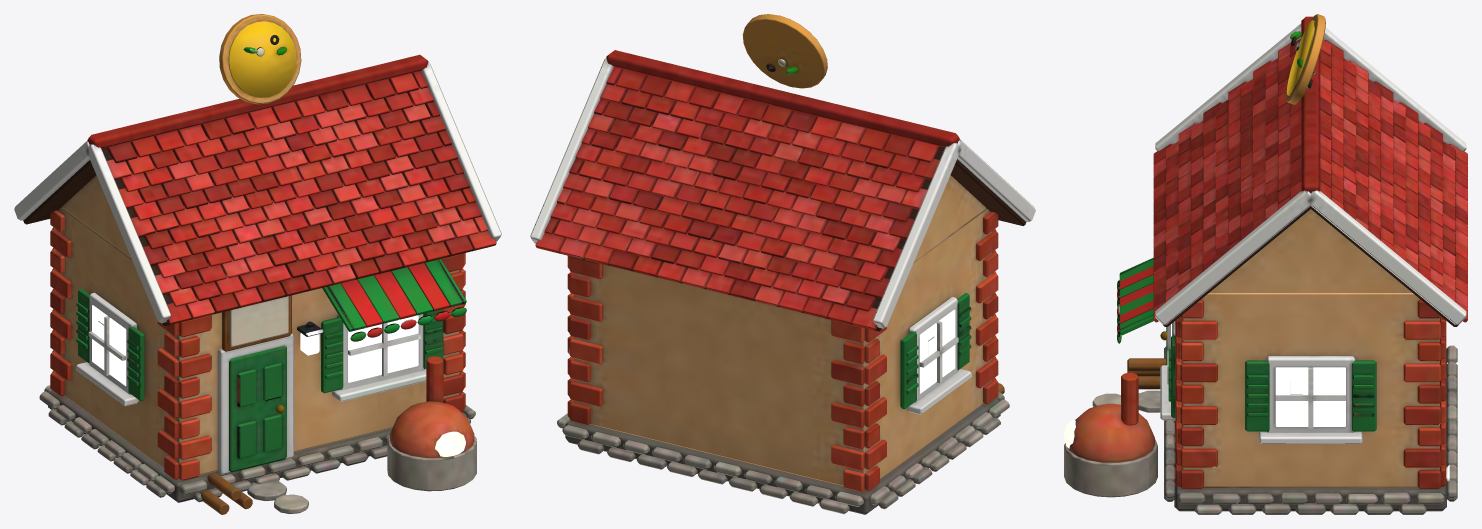
The model's file is pizzeria.glb.
The picture shows the model from 3 angles, left to right: view 1: azimuth 30°, elevation 25°; view 2: azimuth 150°, elevation 25°; view 3: azimuth 270°, elevation 25°; orthographic projection. The views are drawn at different scales.
Visible parts, largest first — view 1: pizzeria; view 2: pizzeria; view 3: pizzeria.
Boxes of the visible parts, x1,y1,x2,y2 form: pizzeria: [14, 14, 501, 514]; pizzeria: [530, 14, 1035, 514]; pizzeria: [1064, 14, 1467, 514].
Size of the model in its own units: 1.74 by 1.98 by 1.72.
1 material, 1 textured.
